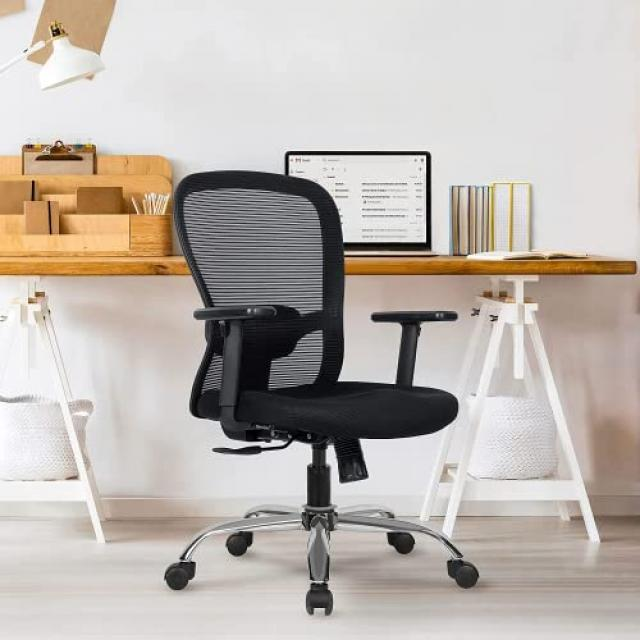chair: (166, 170, 478, 609)
